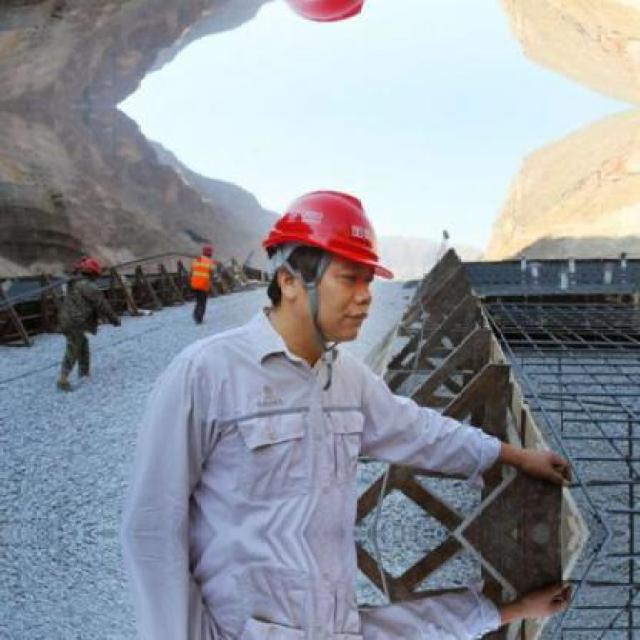Reflective-Jacket: (186, 256, 217, 296)
Safety-Helmet: (250, 182, 404, 285), (74, 255, 106, 279)
